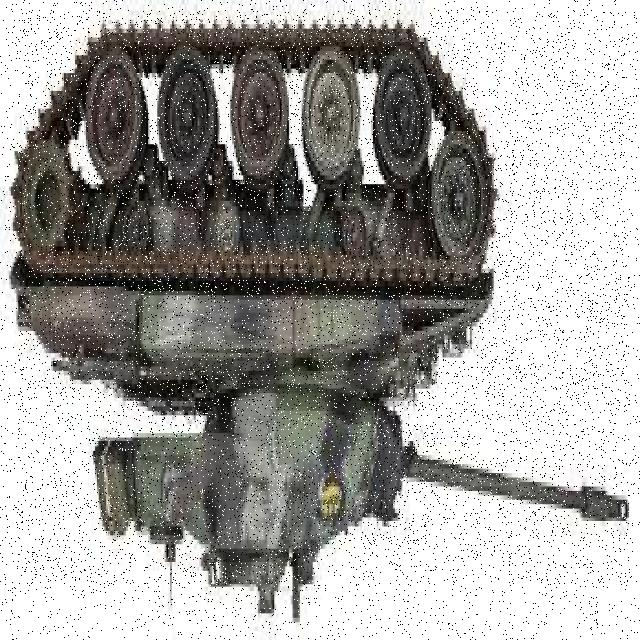MIL_MBT: (19, 9, 629, 585)
